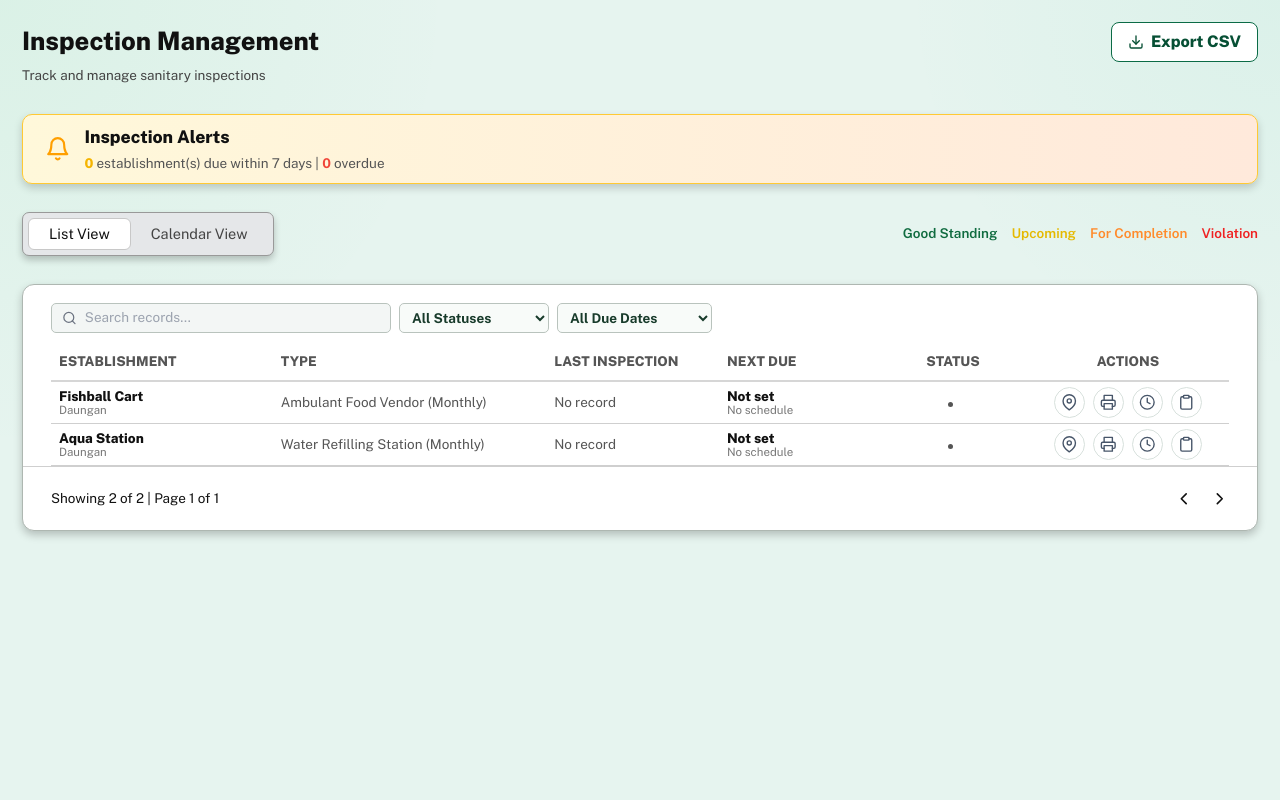
Test: status after inspection with an empty checklist › blocks submission until the inspector picks one
Step 1. Click the button named "Conduct inspection for Fishball Cart" → x=1186, y=402, box [1171, 387, 1202, 418]
(page scrolled)
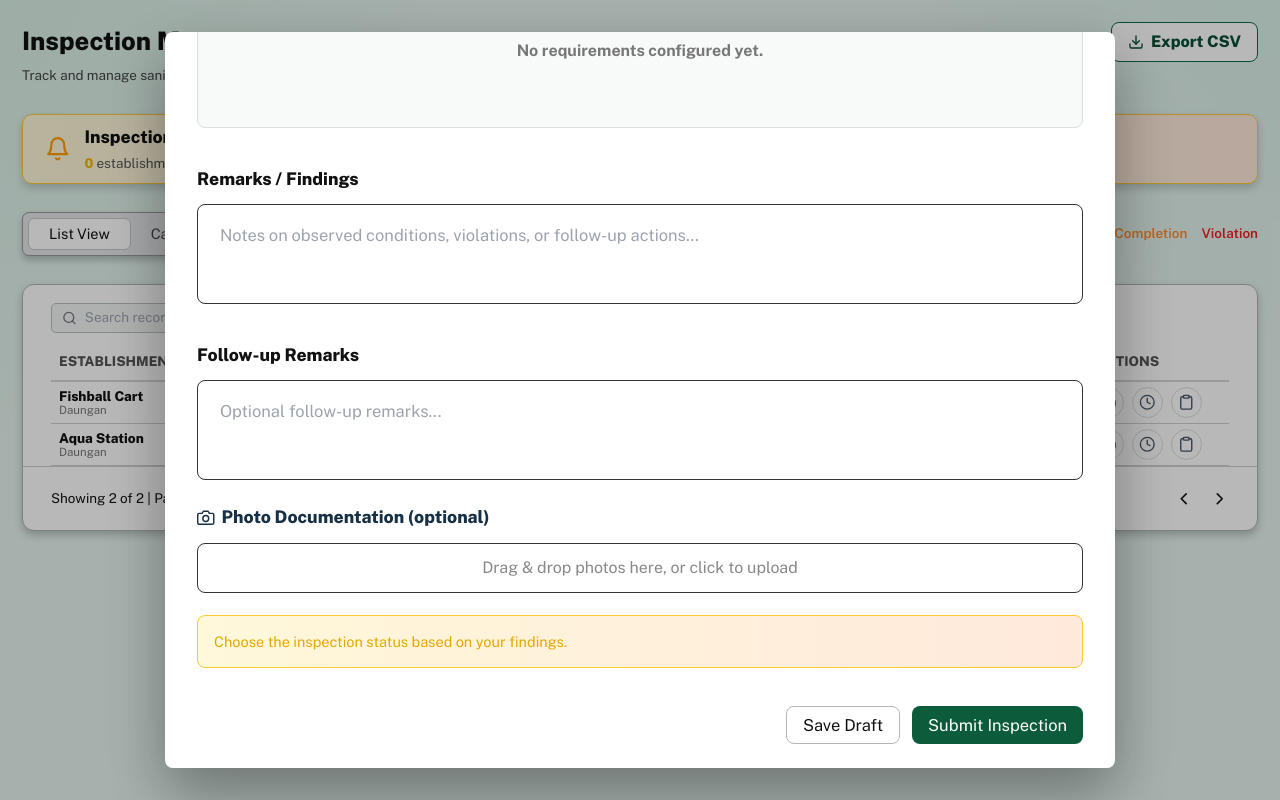
Step 2. Click the button "Submit Inspection" → x=998, y=725, box [912, 706, 1083, 744]
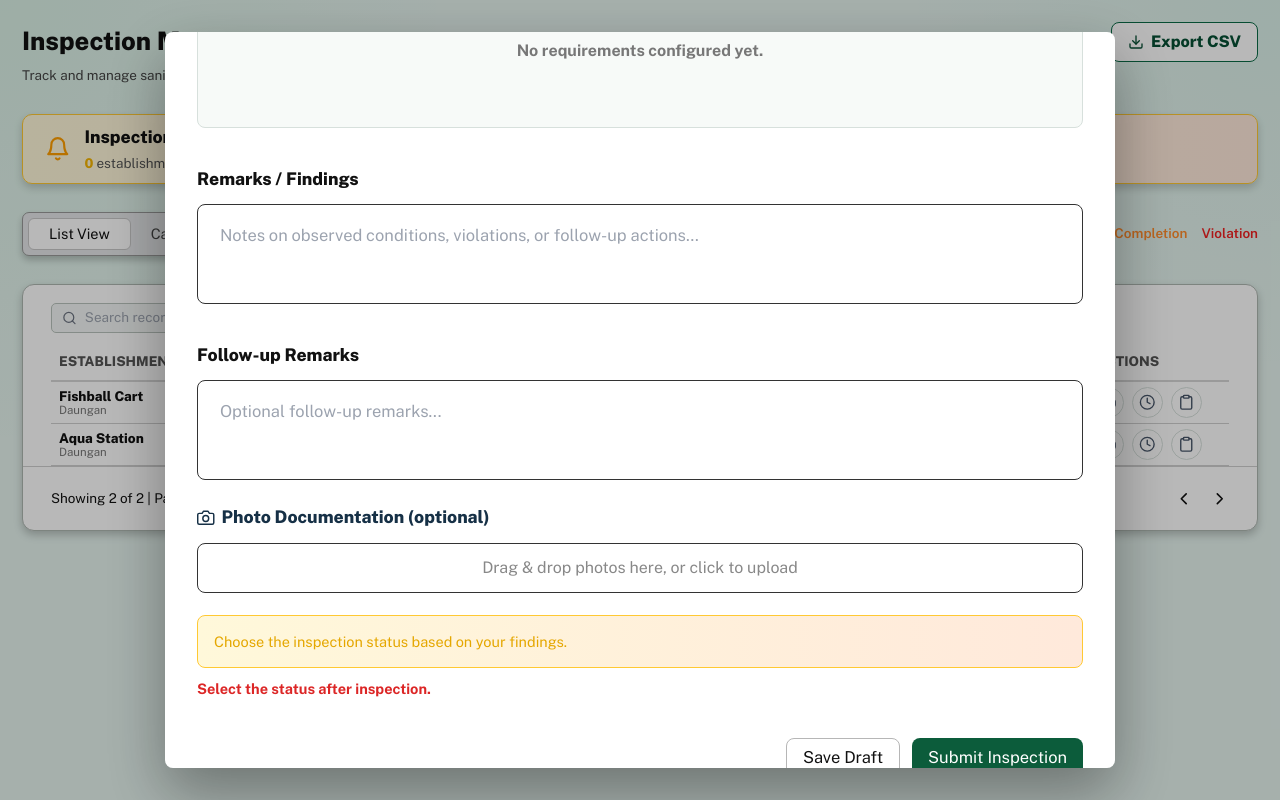
Expected: the text "Select the status after inspection." is shown, [197, 680, 431, 697]
